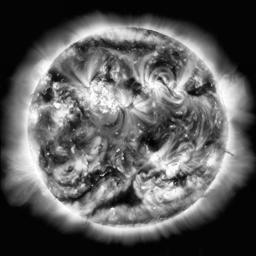solar flares: (82, 85, 126, 114), (95, 28, 157, 38), (142, 188, 183, 203), (163, 80, 187, 103), (50, 100, 71, 124), (138, 72, 159, 94), (73, 155, 95, 172), (123, 94, 140, 115), (150, 153, 168, 172), (167, 159, 181, 176), (51, 83, 64, 97)
sunspots: (81, 41, 158, 55), (140, 128, 169, 150), (107, 190, 140, 209), (153, 53, 179, 75), (84, 170, 126, 181), (71, 122, 86, 147), (189, 82, 213, 97), (119, 78, 140, 95), (51, 70, 64, 81), (206, 138, 214, 145)
